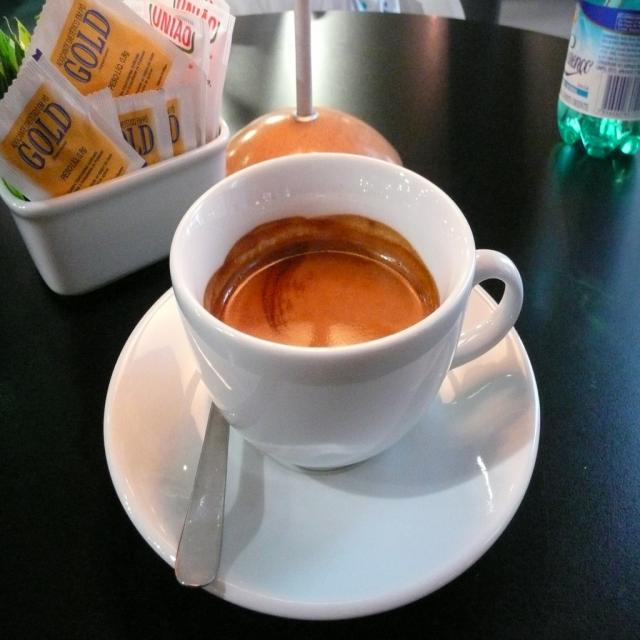Coffee: (180, 163, 517, 465)
Tea: (203, 212, 436, 346)
